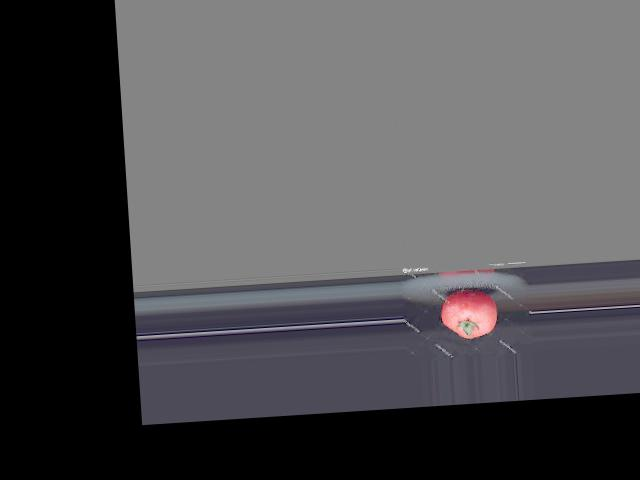tomato: (439, 288, 499, 340)
